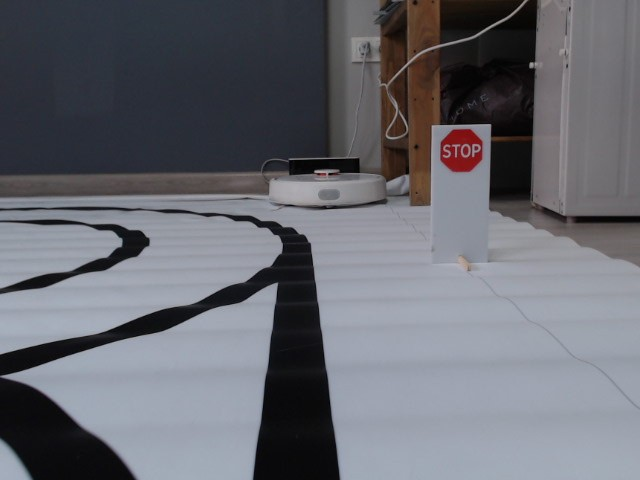Stop: (438, 128, 487, 172)
